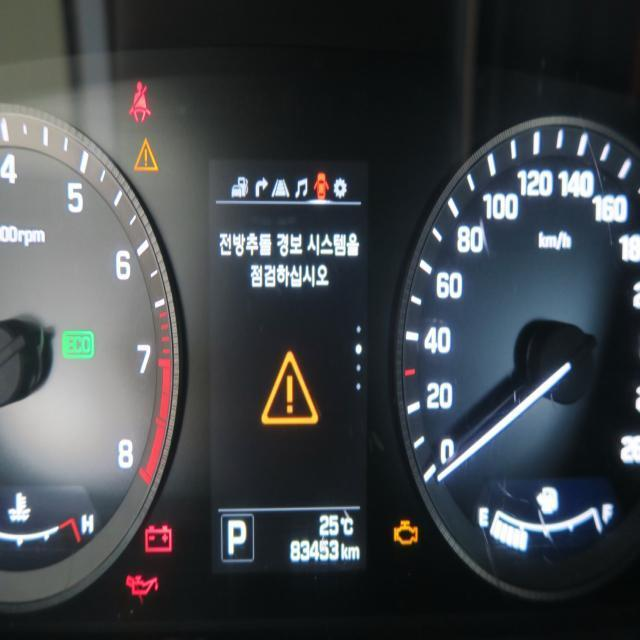Central Warning lamp: (258, 346, 318, 426), (132, 134, 158, 171)
